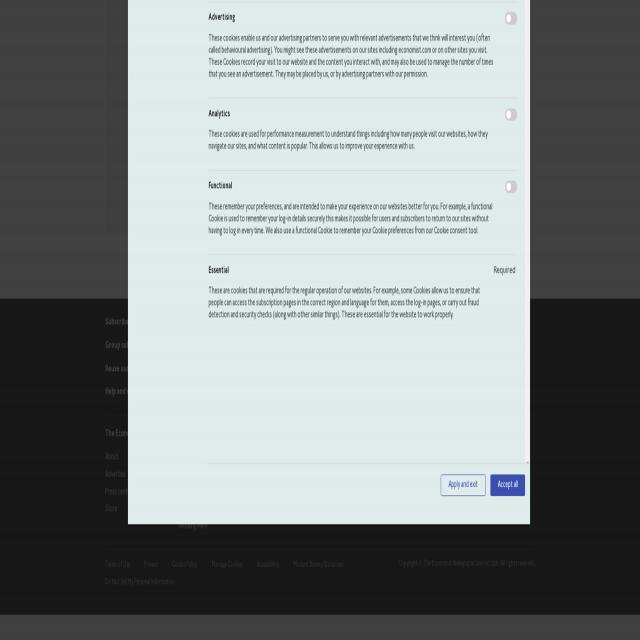button: (440, 474, 486, 496), (490, 474, 526, 496)
field: (505, 180, 517, 193), (505, 12, 517, 24), (505, 109, 518, 120)
